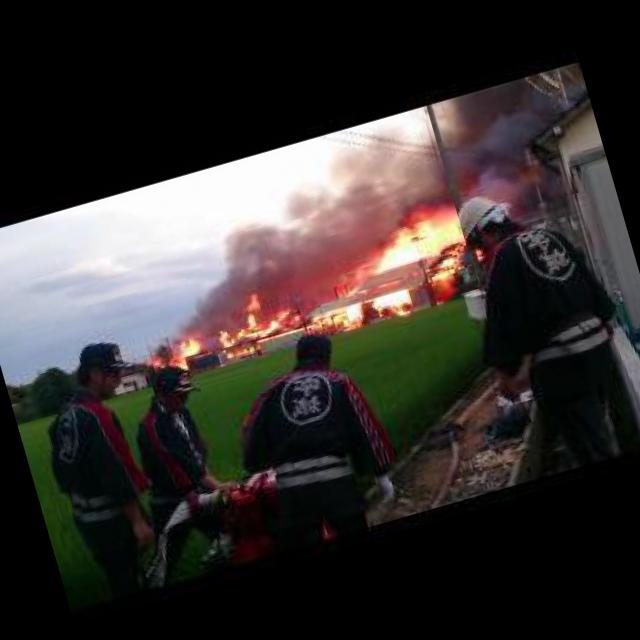fire: (361, 213, 472, 294), (210, 282, 310, 356), (306, 302, 368, 338), (149, 336, 202, 376), (364, 289, 412, 324), (334, 267, 370, 298)
smoke: (142, 181, 348, 332), (308, 104, 456, 238)
